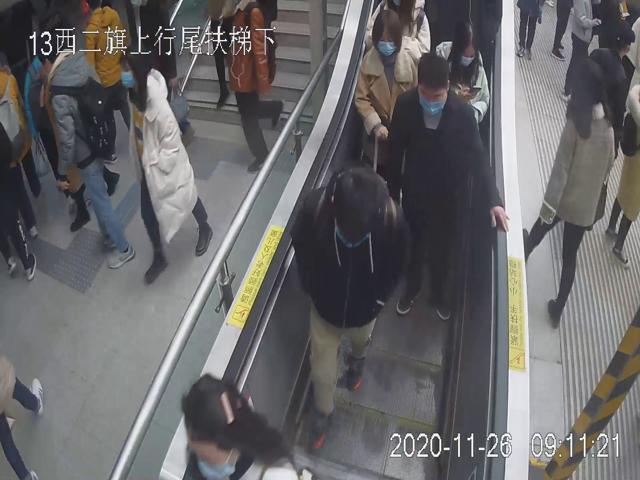person: (376, 55, 509, 323), (290, 157, 406, 451), (523, 56, 615, 326), (119, 42, 211, 283), (353, 8, 418, 167), (433, 17, 490, 128)
